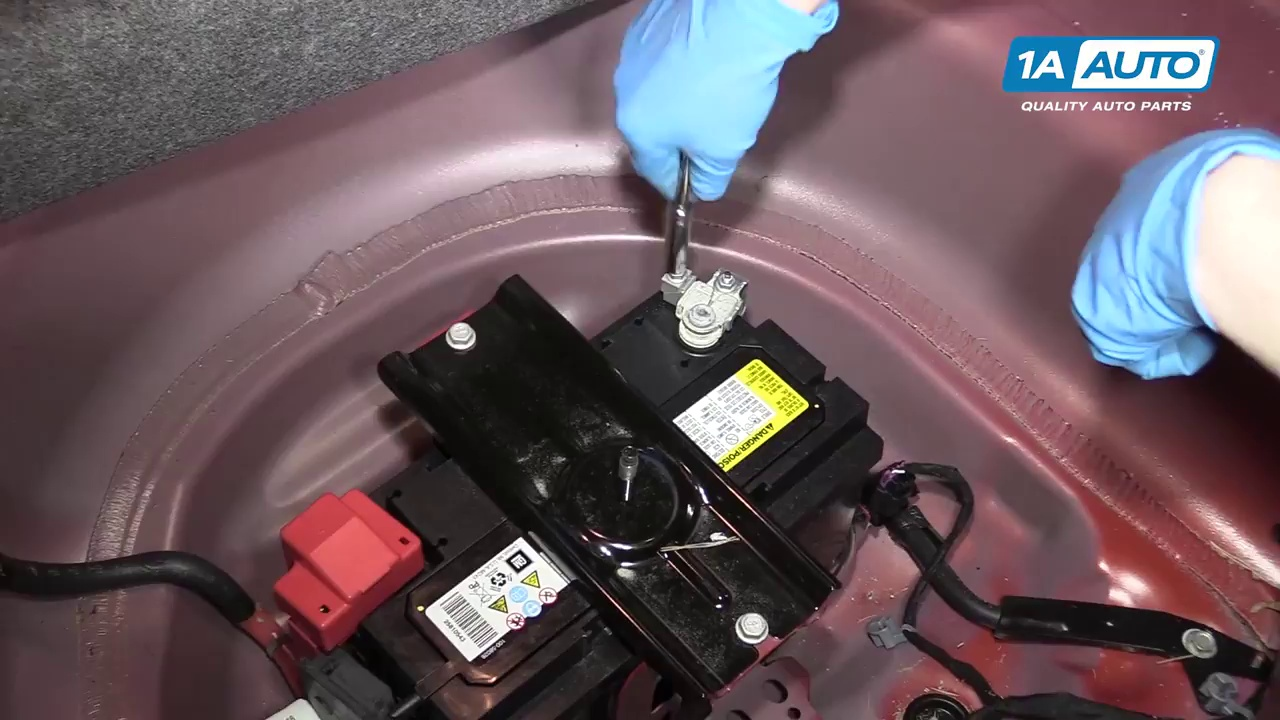battery: (263, 278, 881, 718)
neg_connected: (615, 222, 766, 358)
pos_connected: (258, 434, 446, 666)
